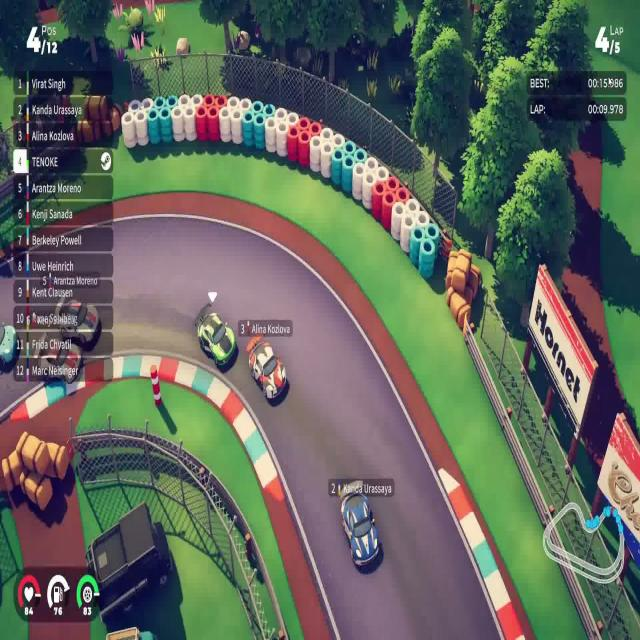car: (340, 489, 379, 569), (245, 333, 287, 401), (195, 309, 237, 371)
